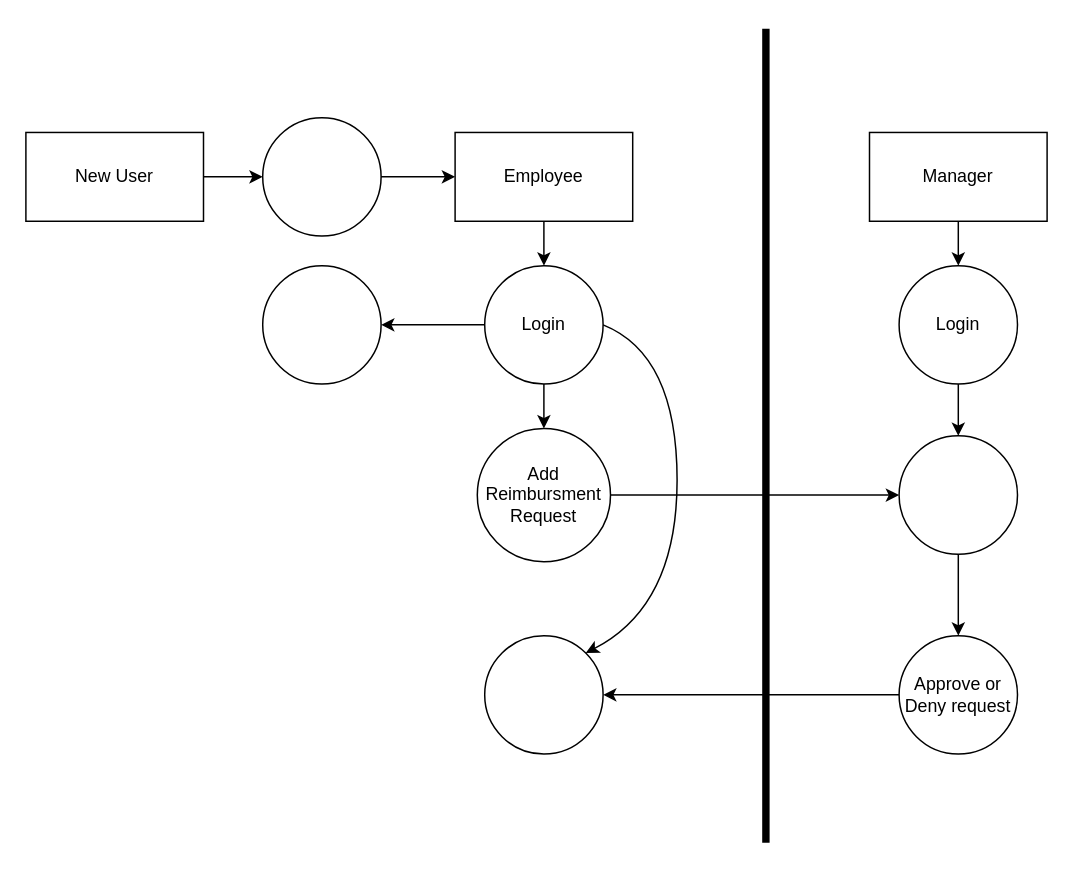
Some shapes in this 1073 by 873 pixel diagram are drawn without their labels. Each missing label, with the box of its shape:
Edit Account Information: (261, 264, 381, 384)
Get List of Own Tickets: (483, 634, 603, 754)
Register: (261, 116, 381, 236)
View Pending Requests: (898, 434, 1018, 554)
